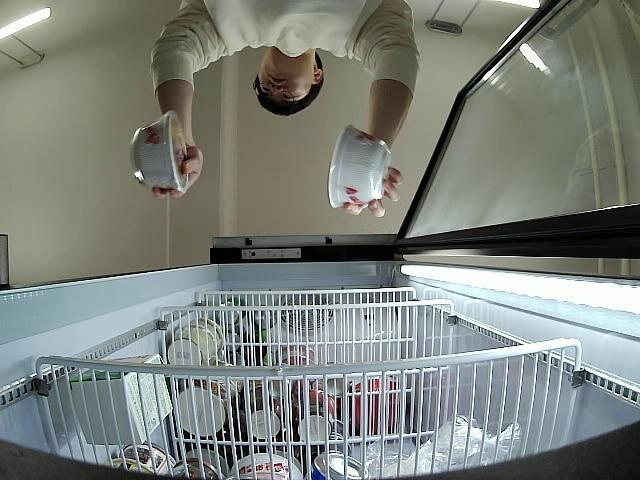09_yukGaeJang: (328, 120, 390, 210), (128, 111, 189, 195)
